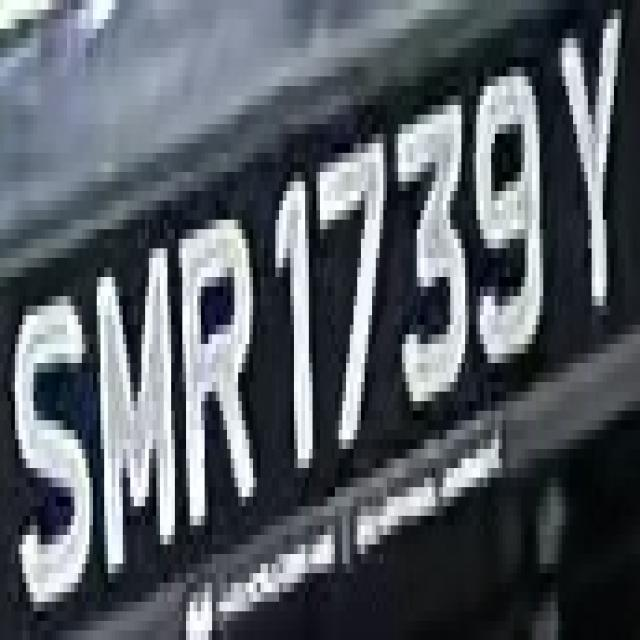1: (272, 153, 331, 497)
3: (379, 86, 469, 420)
7: (309, 124, 391, 516)
9: (465, 58, 551, 402)
M: (89, 229, 186, 592)
R: (168, 201, 260, 564)
S: (19, 248, 93, 621)
Y: (550, 10, 632, 315)
